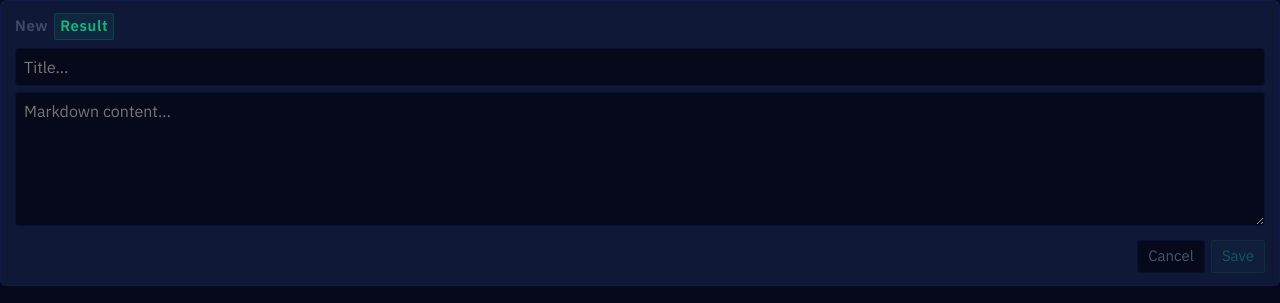
Test: EntryEditor › SAVE button is enabled when title is non-empty
Type "My result" into the field with placeholder "Title…" at (640, 66), box [15, 48, 1265, 86]
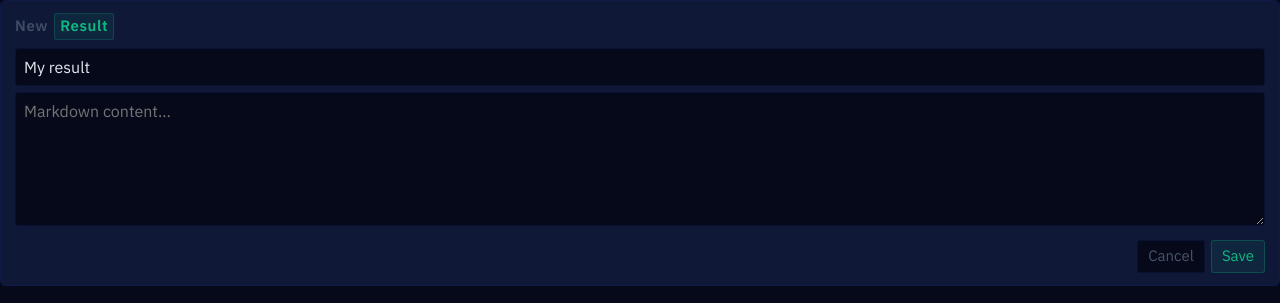
Expected: the button "Save" is enabled, [1211, 240, 1265, 272]
